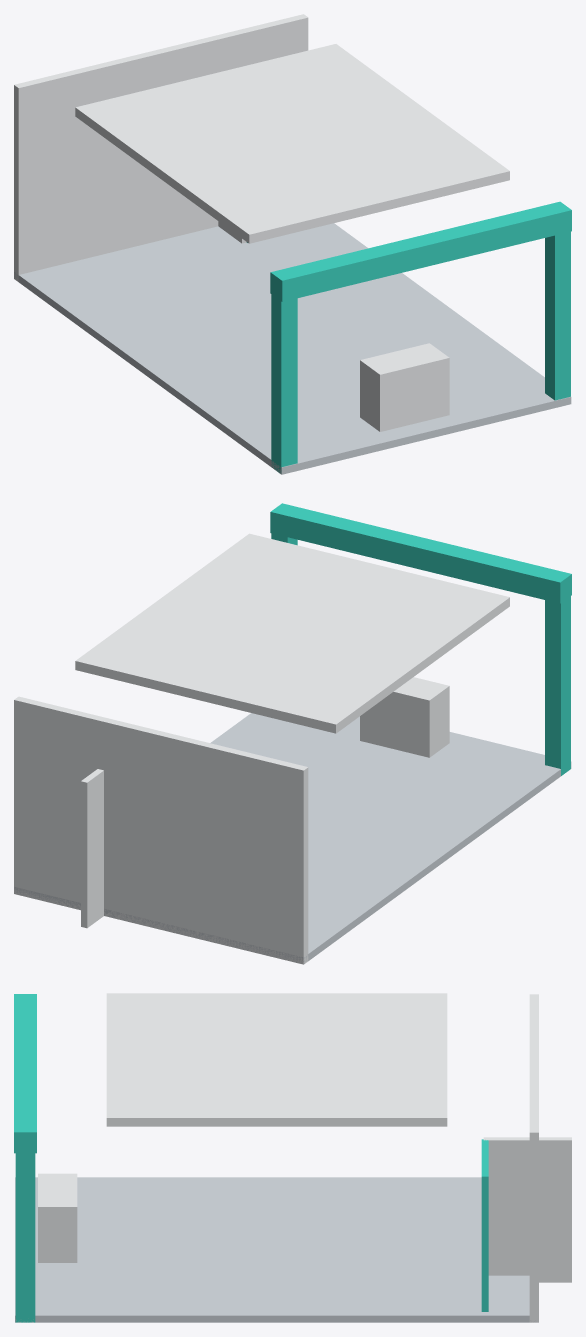
The picture shows the model from 3 angles, top to bottom: view 1: azimuth 30°, elevation 25°; view 2: azimuth 150°, elevation 25°; view 3: azimuth 270°, elevation 25°; orthographic projection. The views are drawn at different scales.
Parts seen in each view (by area): view 1: Exhibition Booth Concept; view 2: Exhibition Booth Concept; view 3: Exhibition Booth Concept.
Boxes of the visible parts, <box> form: Exhibition Booth Concept: <box>14,14,571,474</box>; Exhibition Booth Concept: <box>14,503,571,964</box>; Exhibition Booth Concept: <box>14,993,571,1322</box>.
Size of the model in its own units: 5 by 3.34 by 8.52.
